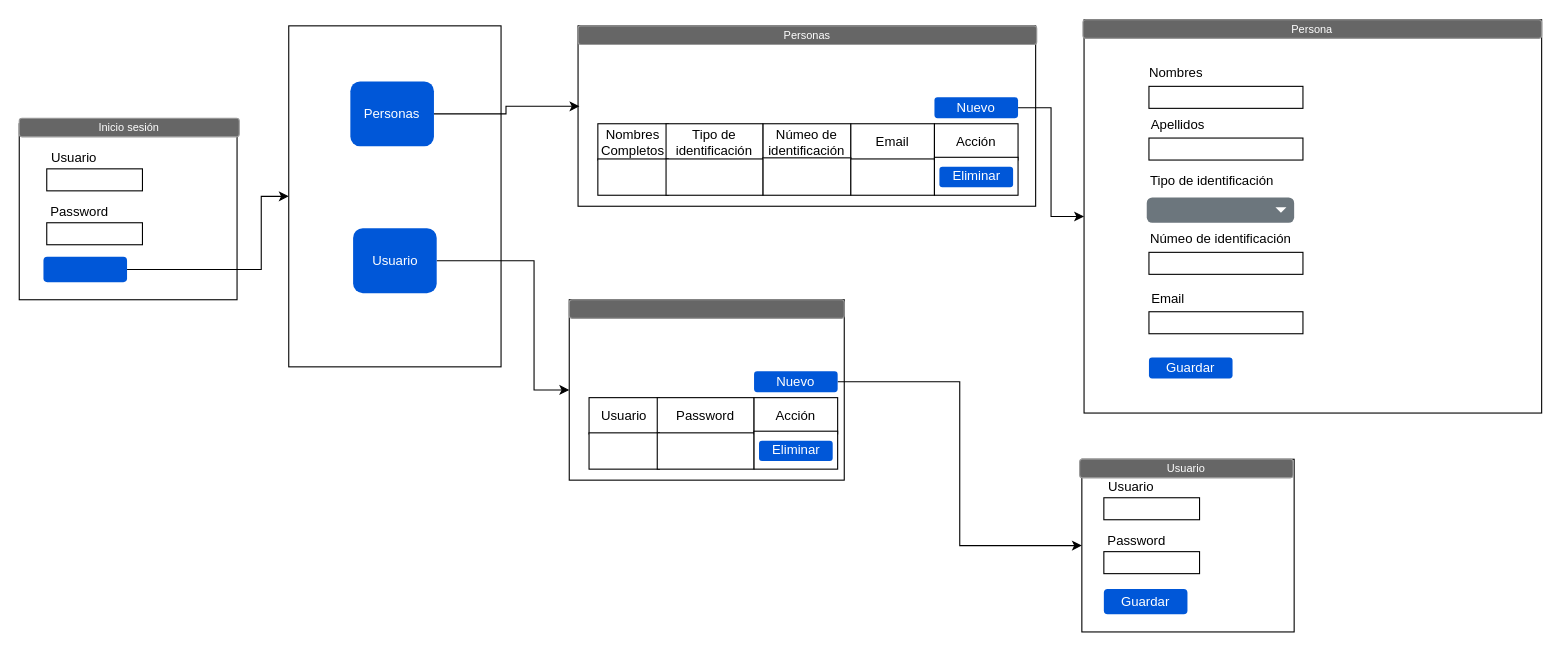
Some shapes in this 1561 by 651 pixel diagram are drawn without their labels. Each missing label, with the centre of its shape:
"CC" belongs at (1220,209).
"Iniciar Sesión" belongs at (85,269).
"Usuarios" belongs at (706,308).
